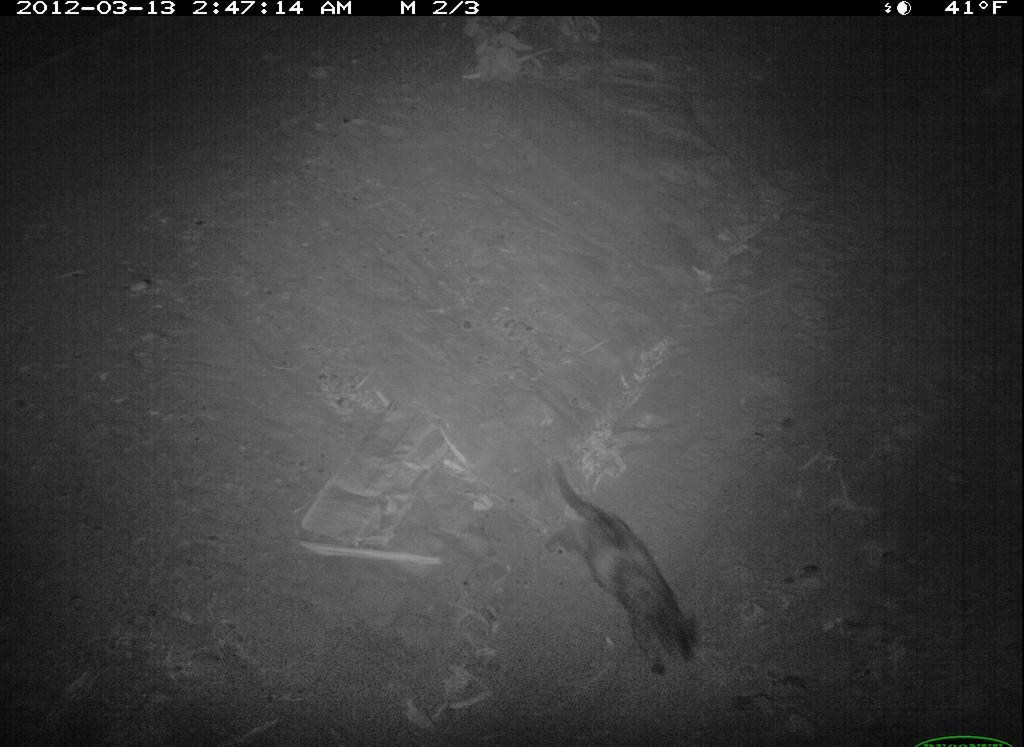cat: (529, 451, 726, 684)
